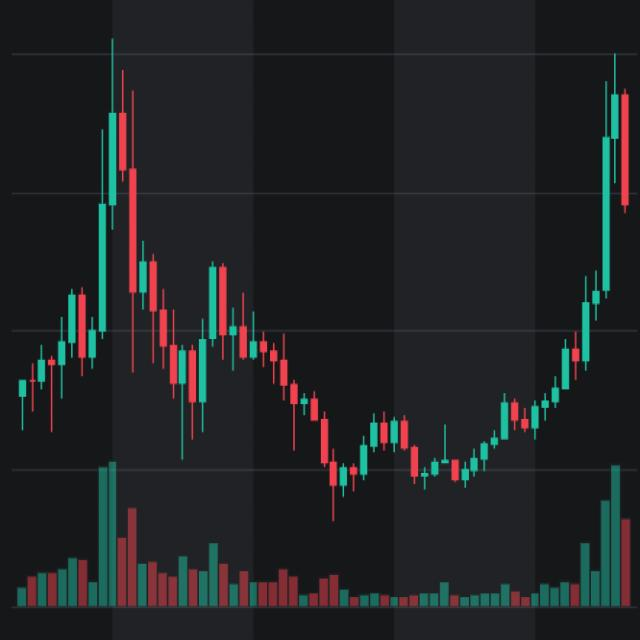Channel-down: (56, 198, 487, 555)
